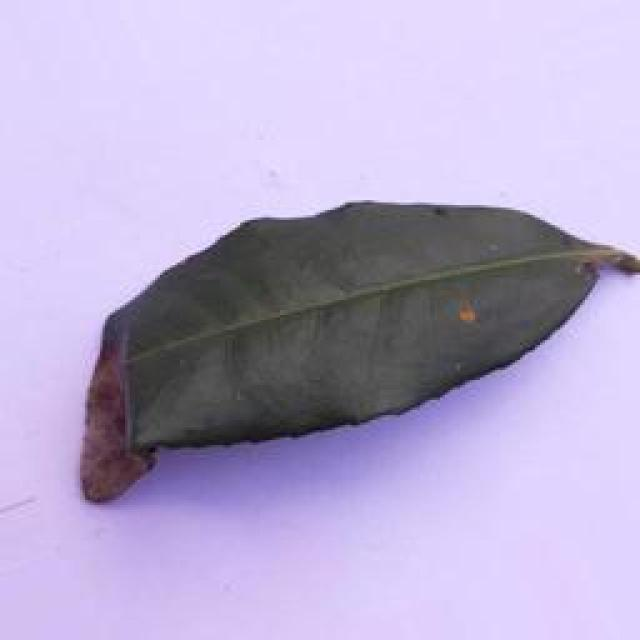Brown Blight: (62, 189, 634, 514)
